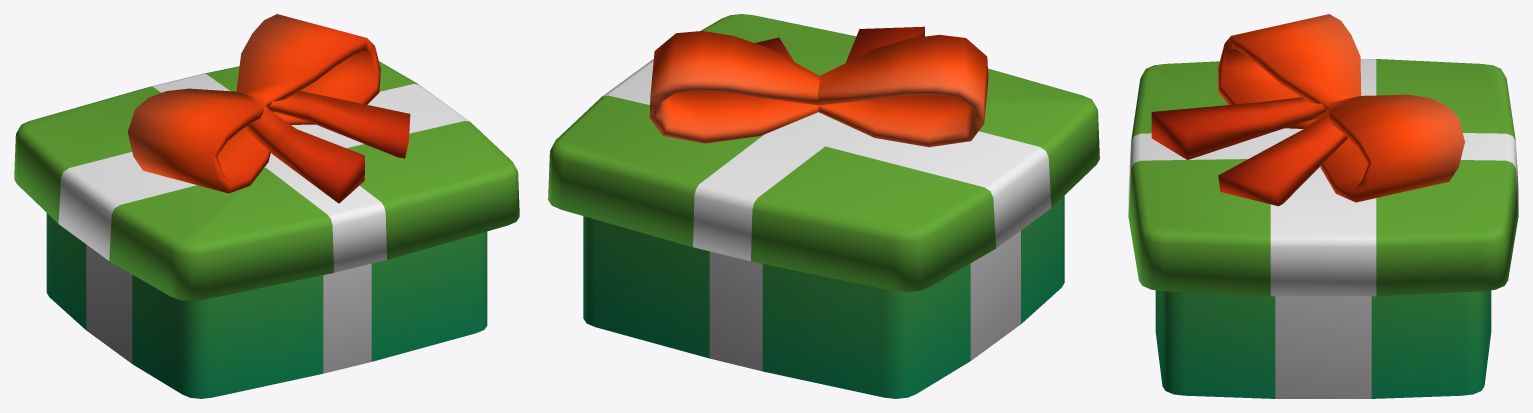
Rendered from Gift_Box_03.fbx.
3 views of the same model, side by side, from view 1: azimuth 30°, elevation 25°; view 2: azimuth 150°, elevation 25°; view 3: azimuth 270°, elevation 25° (orthographic). The views are drawn at different scales.
Parts seen in each view (by area): view 1: Gift_Box_03; view 2: Gift_Box_03; view 3: Gift_Box_03.
Boxes of the visible parts, x1,y1,x2,y2 form: Gift_Box_03: [14, 14, 519, 398]; Gift_Box_03: [548, 14, 1099, 398]; Gift_Box_03: [1128, 14, 1518, 398].
Bounding box in the file's own units: 37.34 × 22.59 × 33.03.
